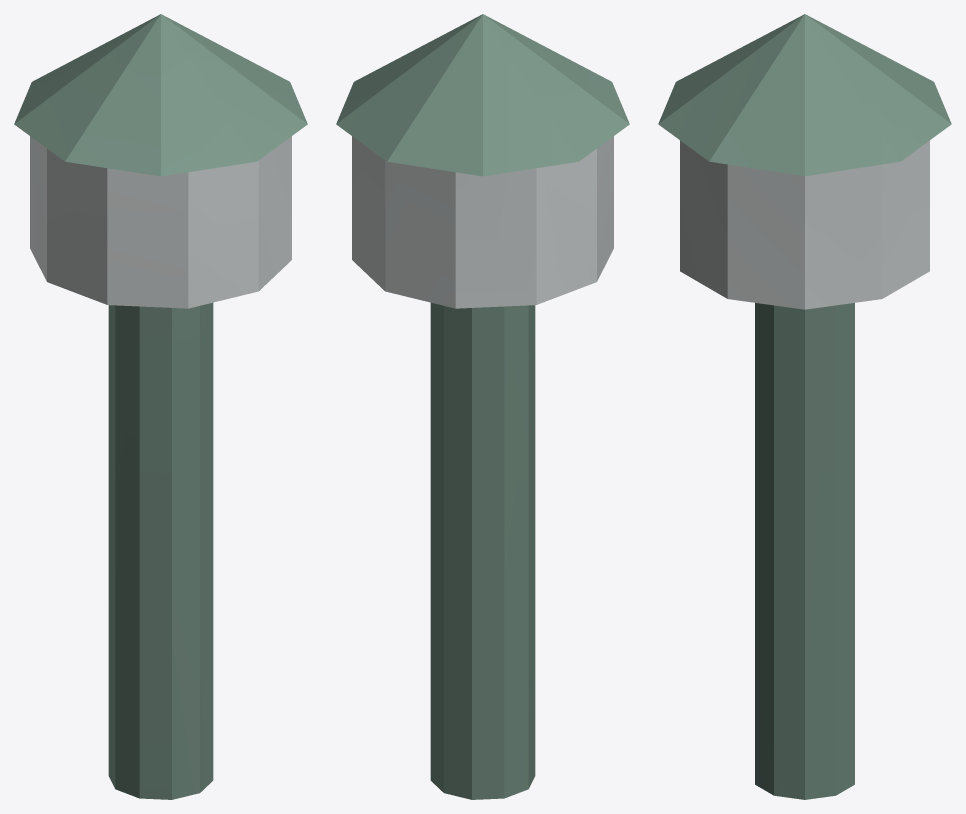
File: lighthouse-04.glb
The picture shows the model from 3 angles, left to right: view 1: azimuth 30°, elevation 25°; view 2: azimuth 150°, elevation 25°; view 3: azimuth 270°, elevation 25°; orthographic projection.
Visible parts, largest first — view 1: world; view 2: world; view 3: world.
Boxes of the visible parts, x1,y1,x2,y2 form: world: (14,14,307,799); world: (336,14,629,799); world: (658,14,951,799).
Size of the model in its own units: 0.6595 by 1.92 by 0.6697.
